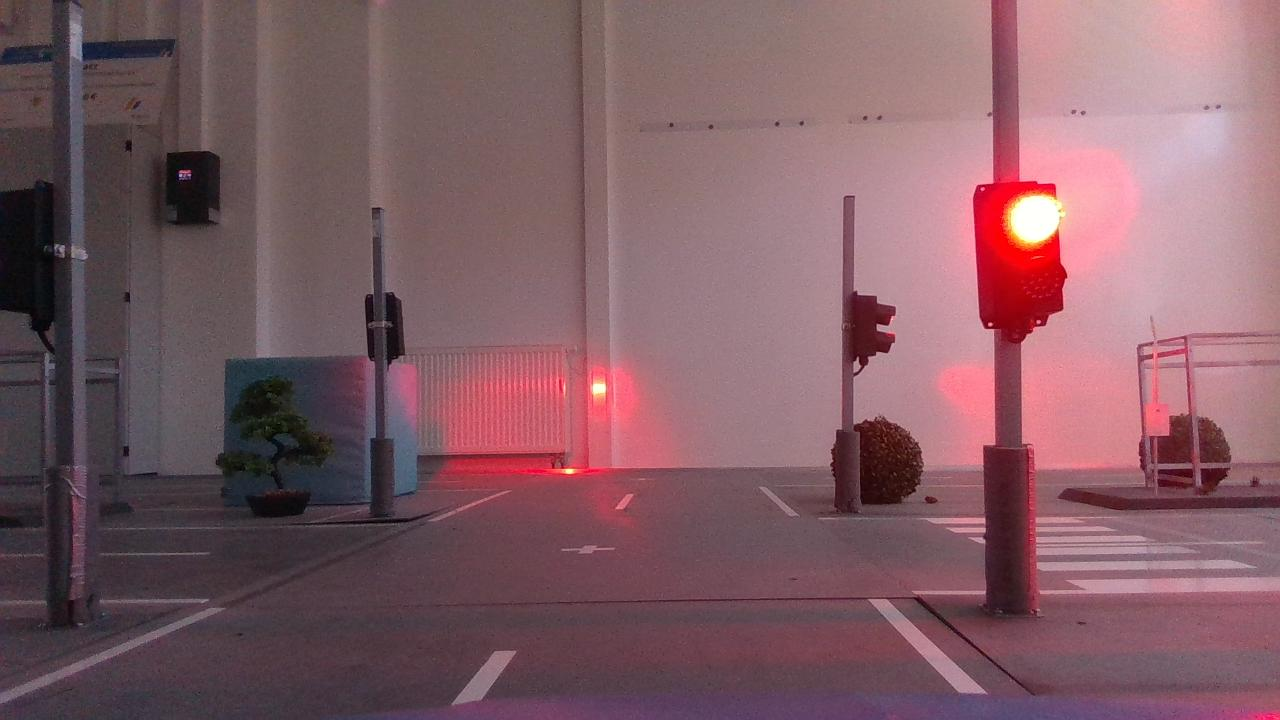traffic_light_red: (963, 175, 1078, 340)
